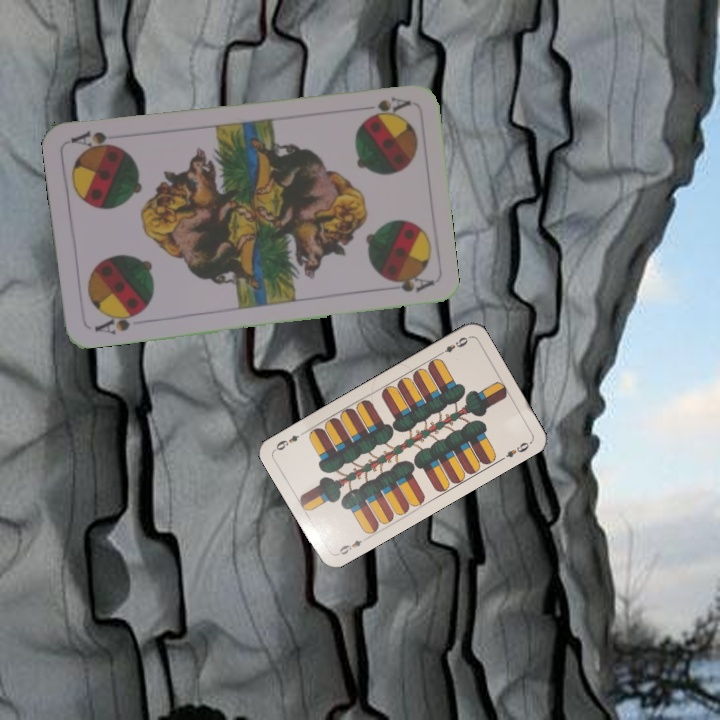E9: (332, 533, 370, 558), (434, 333, 470, 358)
SA: (359, 92, 413, 123), (91, 307, 144, 337)
